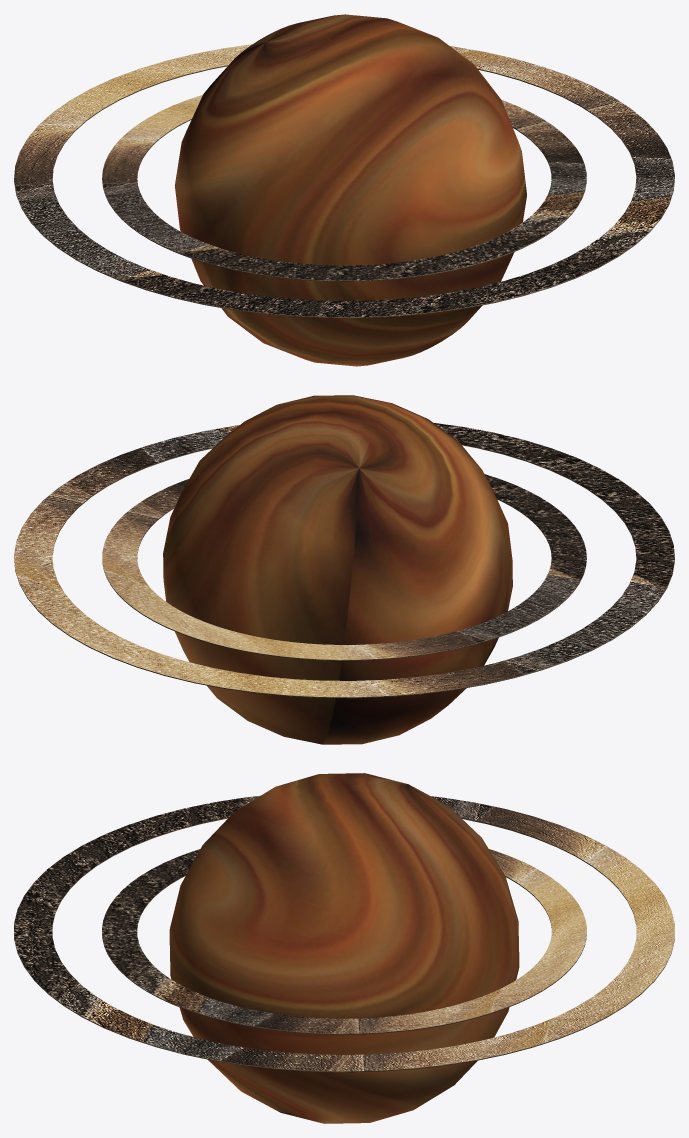
Rendered from saturn.fbx.
The picture shows the model from 3 angles, top to bottom: view 1: azimuth 30°, elevation 25°; view 2: azimuth 150°, elevation 25°; view 3: azimuth 270°, elevation 25°; orthographic projection.
Parts seen in each view (by area): view 1: Sphere, Tube_1, Tube; view 2: Sphere, Tube_1, Tube; view 3: Sphere, Tube_1, Tube.
Boxes of the visible parts, <box> form: Sphere: <box>175,14,526,366</box>; Tube_1: <box>14,44,674,318</box>; Tube: <box>102,95,586,281</box>; Sphere: <box>163,395,512,744</box>; Tube_1: <box>14,422,674,698</box>; Tube: <box>102,474,586,660</box>; Sphere: <box>169,773,519,1123</box>; Tube_1: <box>14,795,674,1072</box>; Tube: <box>102,849,586,1034</box>.
Size of the model in its own units: 600 by 320 by 599.
3 materials, 3 textured.
